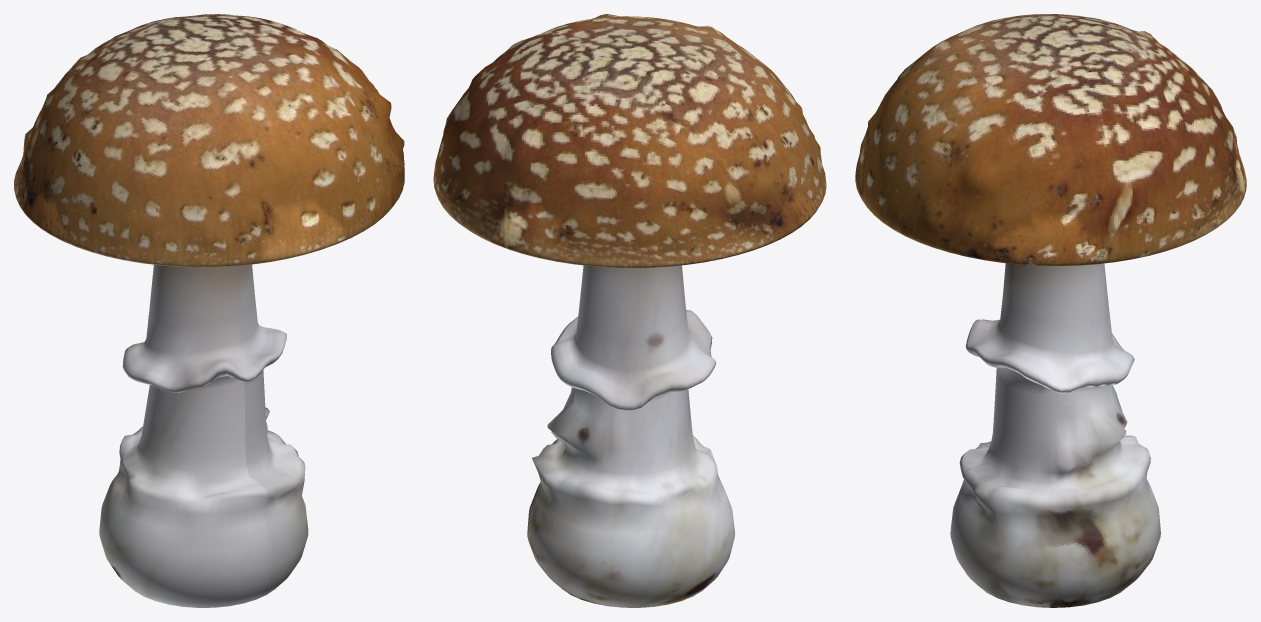
The model's file is SENE_04.fbx.
The picture shows the model from 3 angles, left to right: view 1: azimuth 30°, elevation 25°; view 2: azimuth 150°, elevation 25°; view 3: azimuth 270°, elevation 25°; orthographic projection.
Visible parts, largest first — view 1: SENE_04; view 2: SENE_04; view 3: SENE_04.
Part boxes in pixels (bbox=[...]): SENE_04: bbox=[14, 14, 404, 607]; SENE_04: bbox=[433, 14, 826, 607]; SENE_04: bbox=[855, 14, 1246, 607].
Bounding box in the file's own units: 54.82 × 82.45 × 53.99.
Materials: 1 (1 with a texture image).
